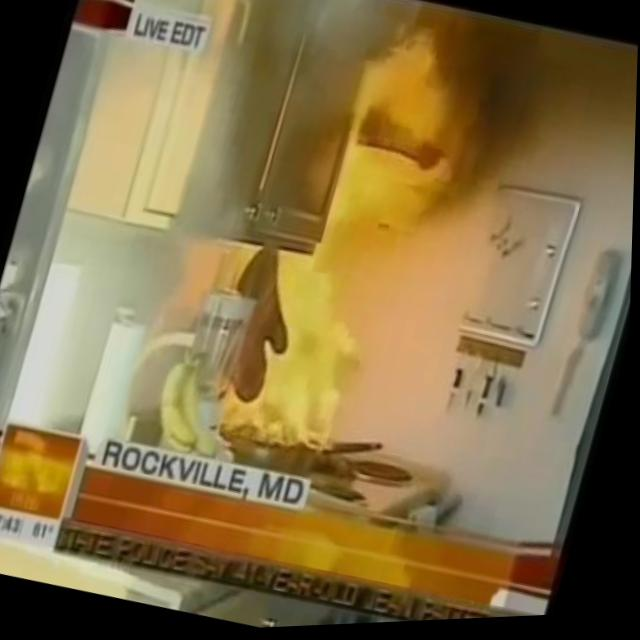fire: (215, 18, 477, 474)
